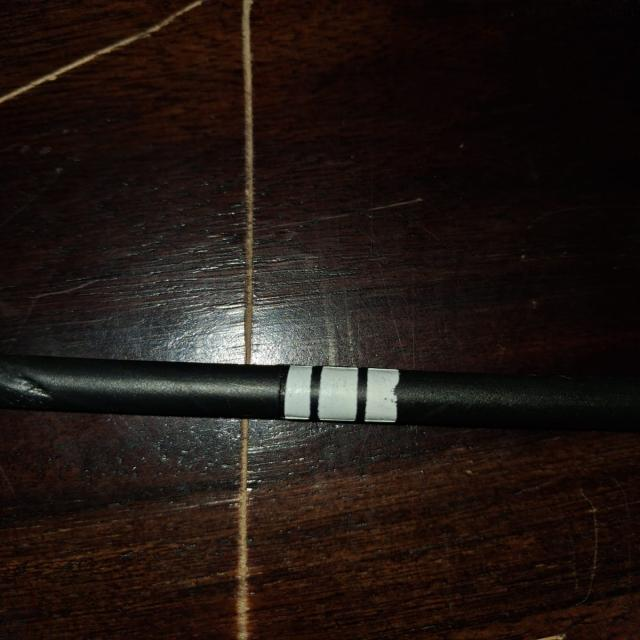white: (285, 366, 400, 424)
